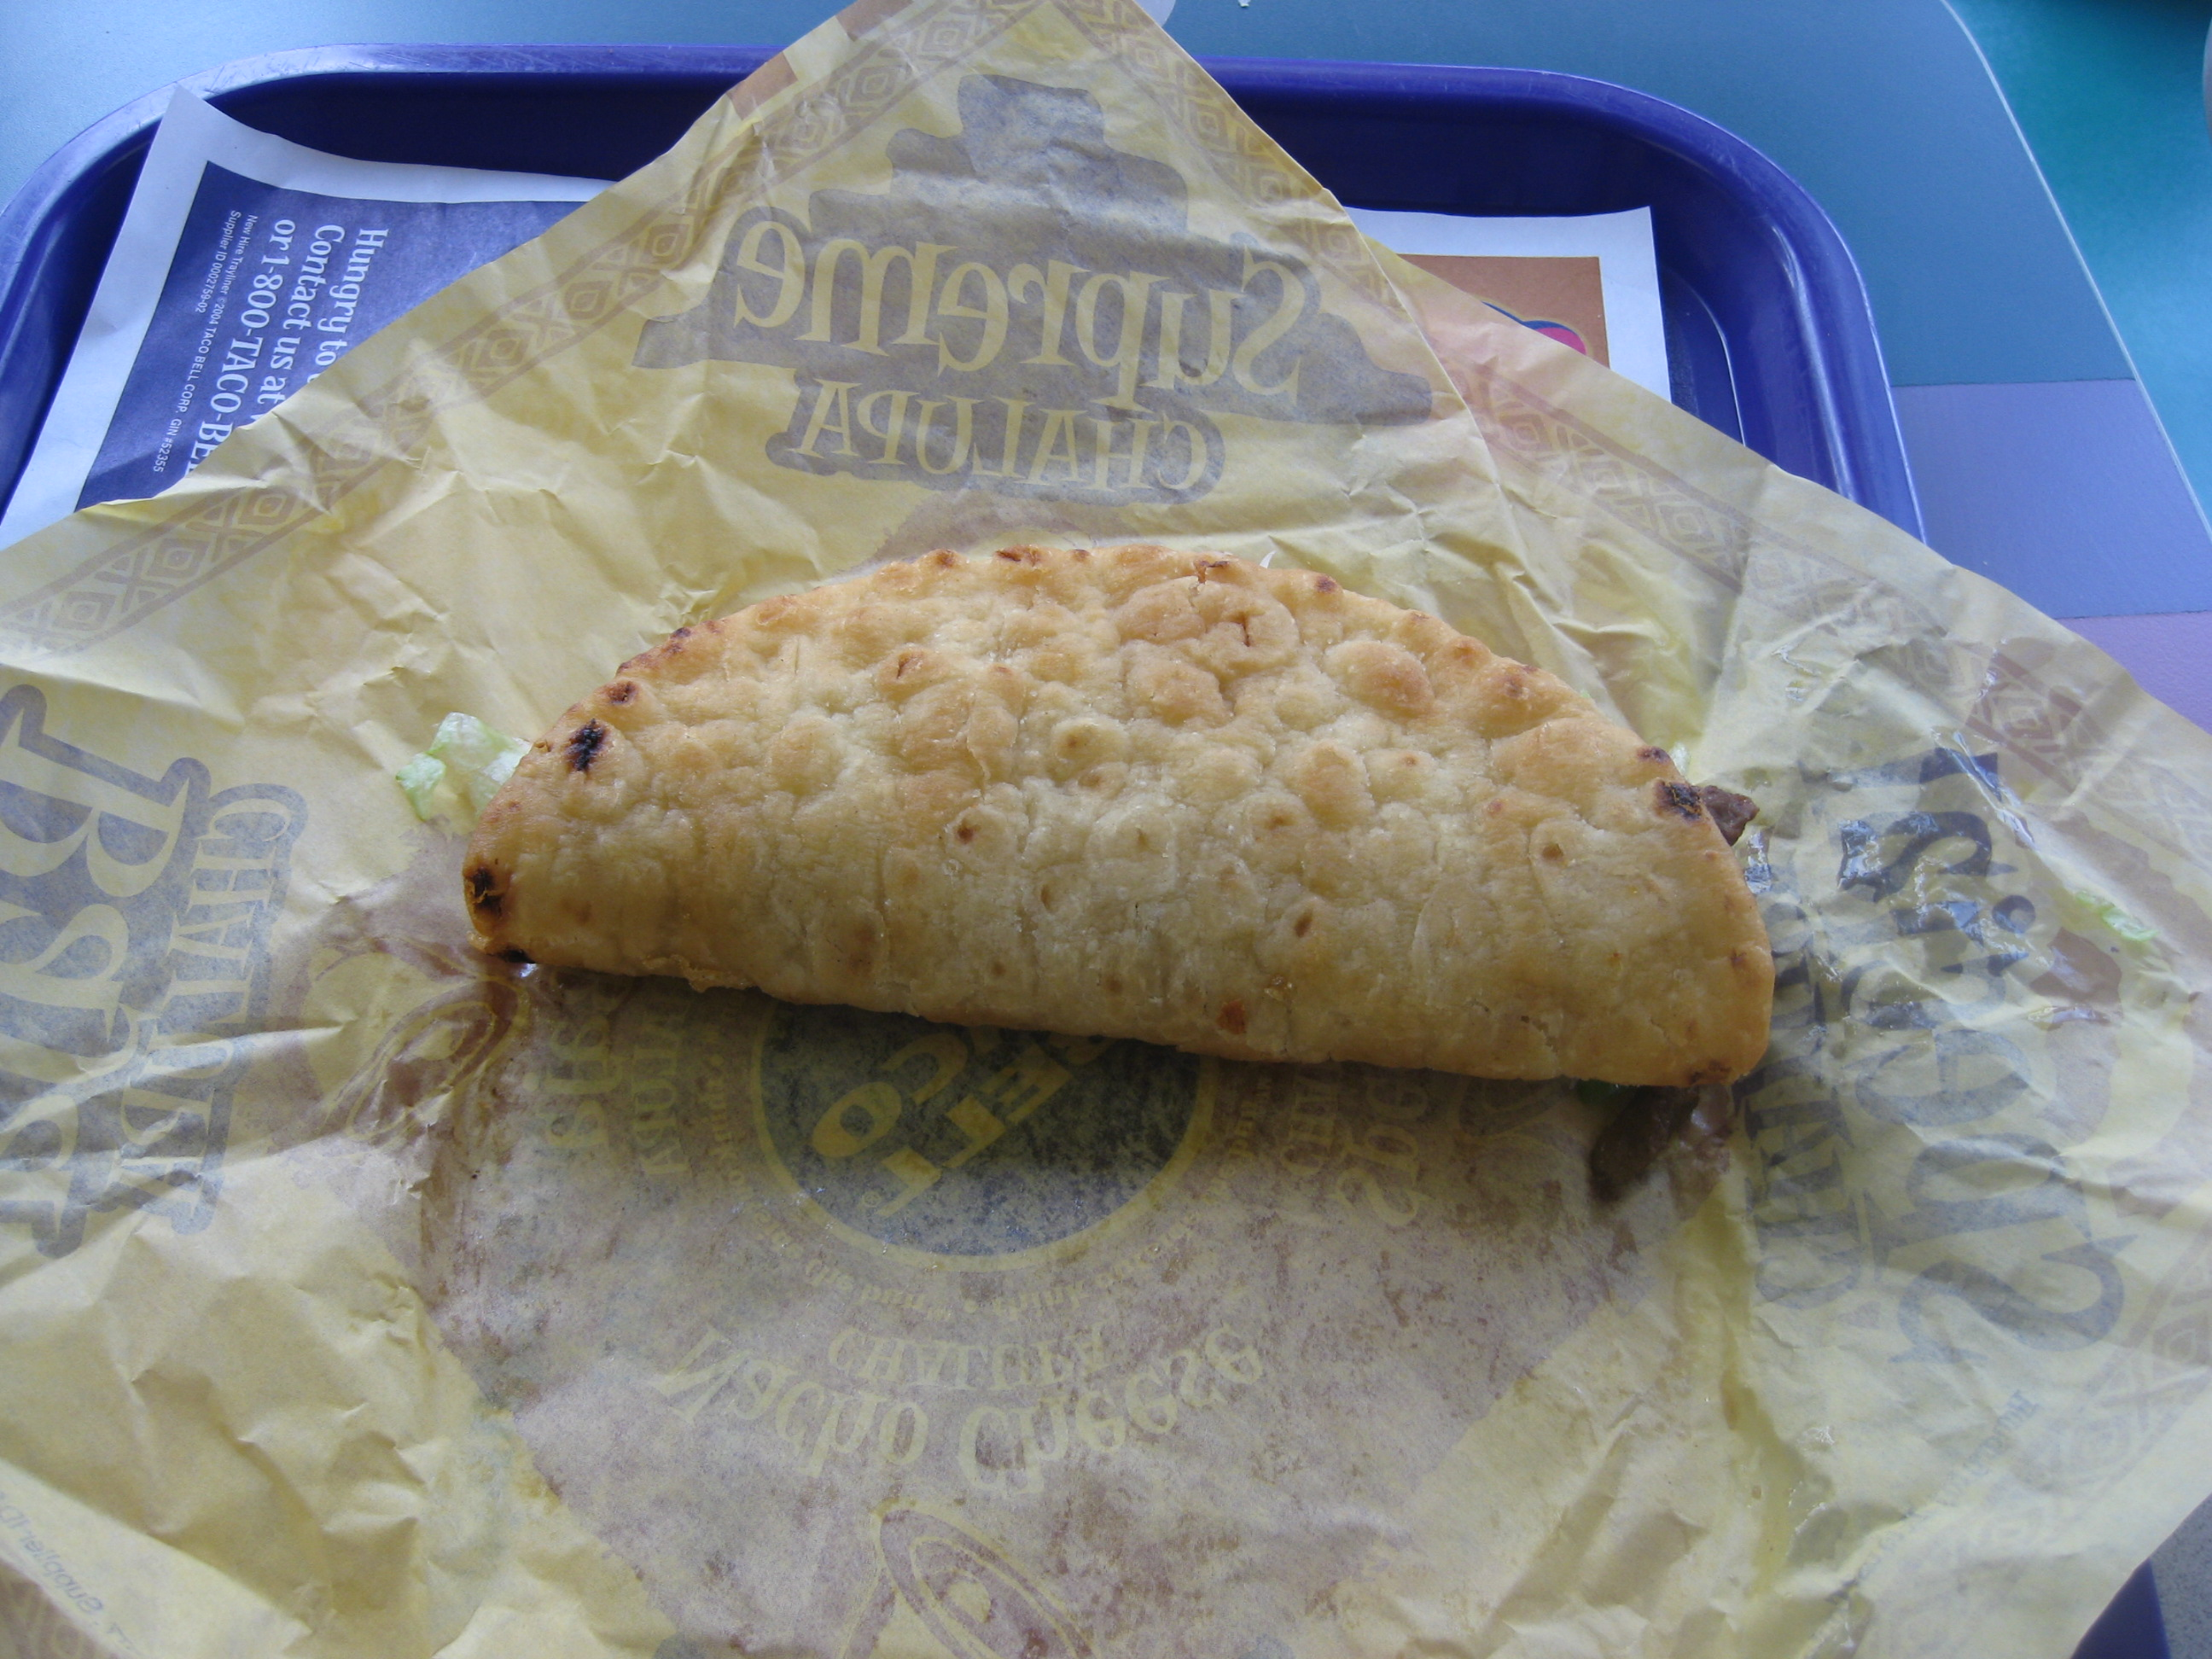taco: (433, 567, 1965, 1188)
